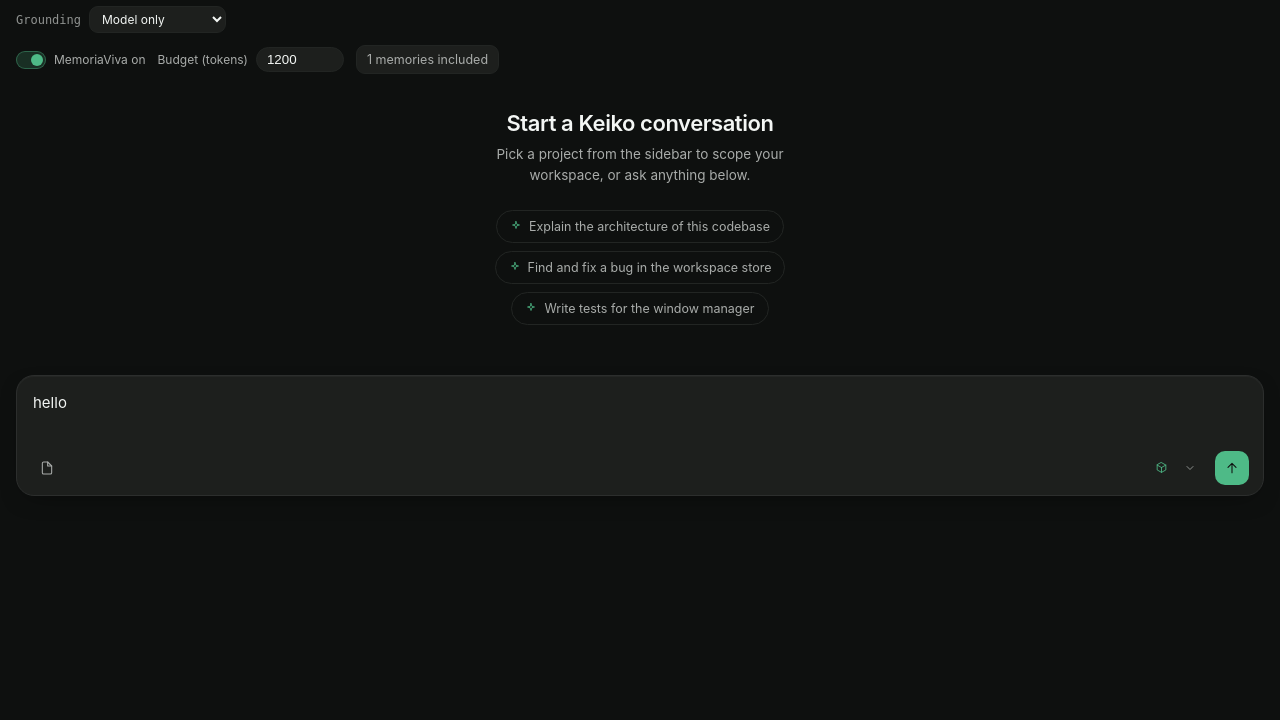
Test case: ChatWindow memory disclosure › exposes expanded state and disclosure linkage on the memory chip
Click the button "1 memories included": (428,60) [356,45,499,74]
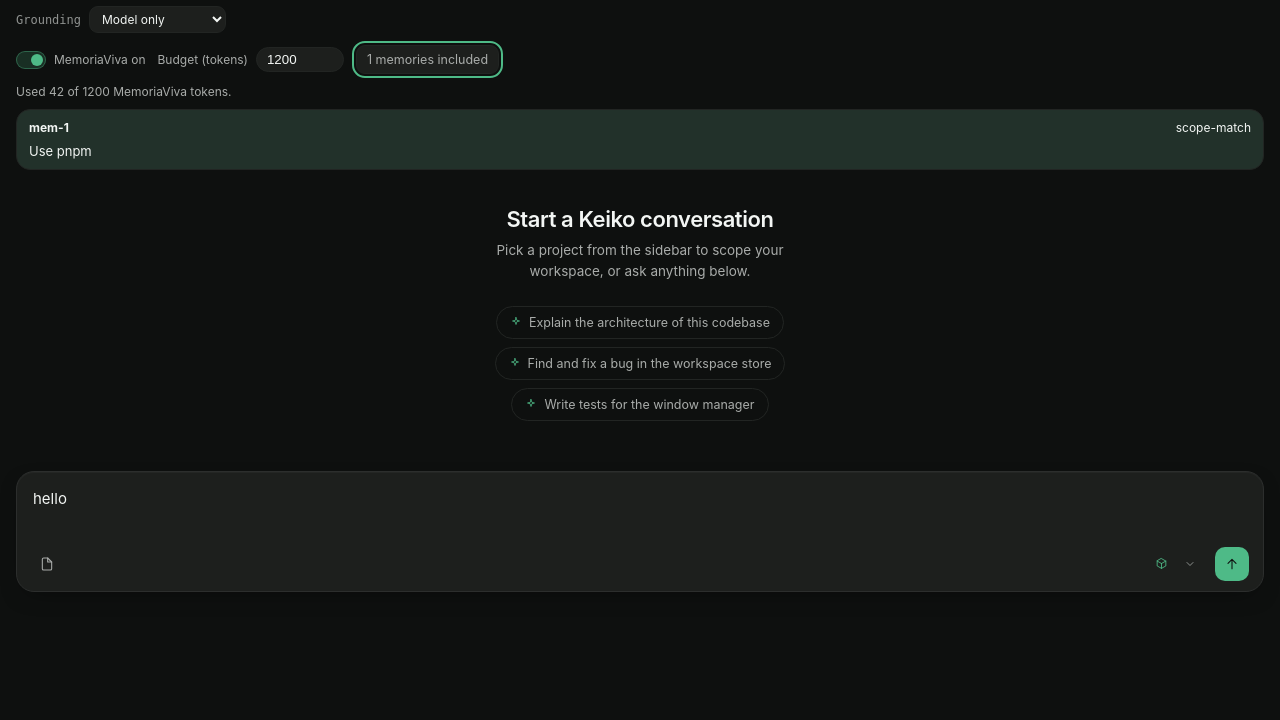
Now the text "Use pnpm" is shown, box [29,143,92,159]
Now the text "Used 42 of 1200 MemoriaViva tokens." is shown, box [16,84,232,99]
